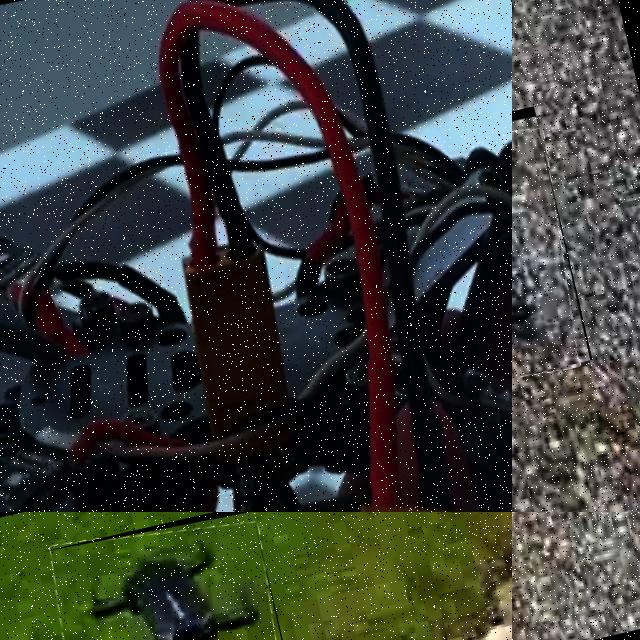0: (41, 512, 286, 640), (512, 106, 591, 420)
drone: (0, 0, 512, 512)
